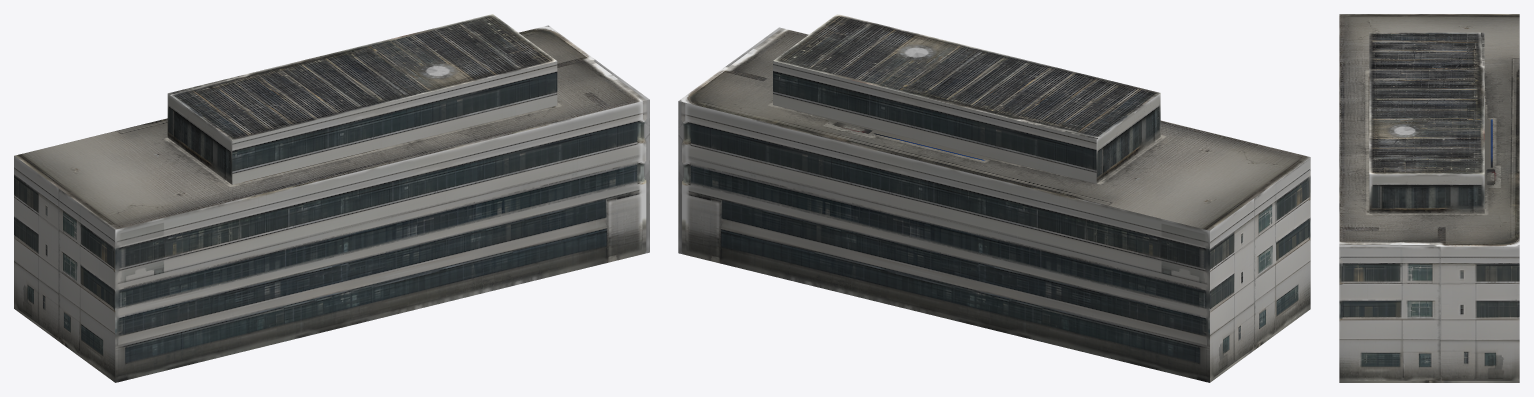
File: CP_Slums_10.fbx
3 renders of one model, left to right at view 1: azimuth 30°, elevation 25°; view 2: azimuth 150°, elevation 25°; view 3: azimuth 270°, elevation 25°, orthographic. The views are drawn at different scales.
Parts seen in each view (by area): view 1: CP_Slums_10; view 2: CP_Slums_10; view 3: CP_Slums_10.
Boxes of the visible parts, x1,y1,x2,y2 form: CP_Slums_10: [14, 14, 649, 382]; CP_Slums_10: [678, 14, 1310, 382]; CP_Slums_10: [1339, 14, 1519, 382].
Size of the model in its own units: 5224 by 1843 by 1715.
